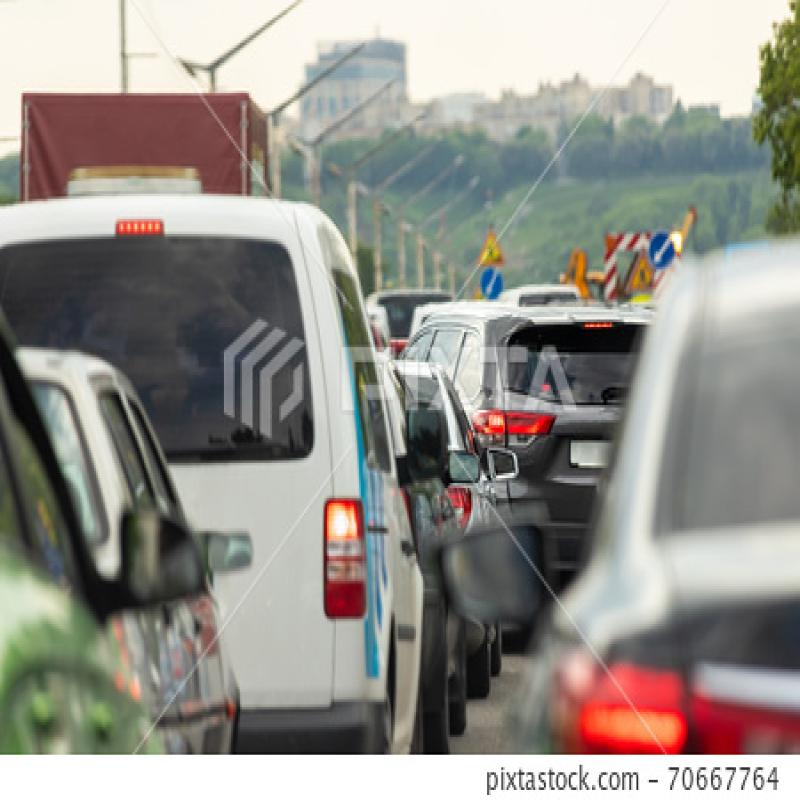car: (7, 162, 382, 769), (533, 241, 799, 800)
